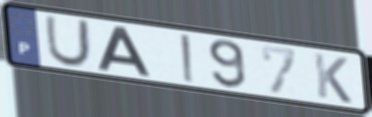7: (259, 43, 299, 96)
9: (206, 39, 248, 90)
A: (95, 25, 153, 79)
I: (178, 32, 198, 86)
K: (311, 51, 354, 106)
U: (42, 14, 93, 69)
